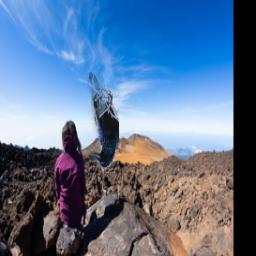Crow: (87, 71, 119, 167)
